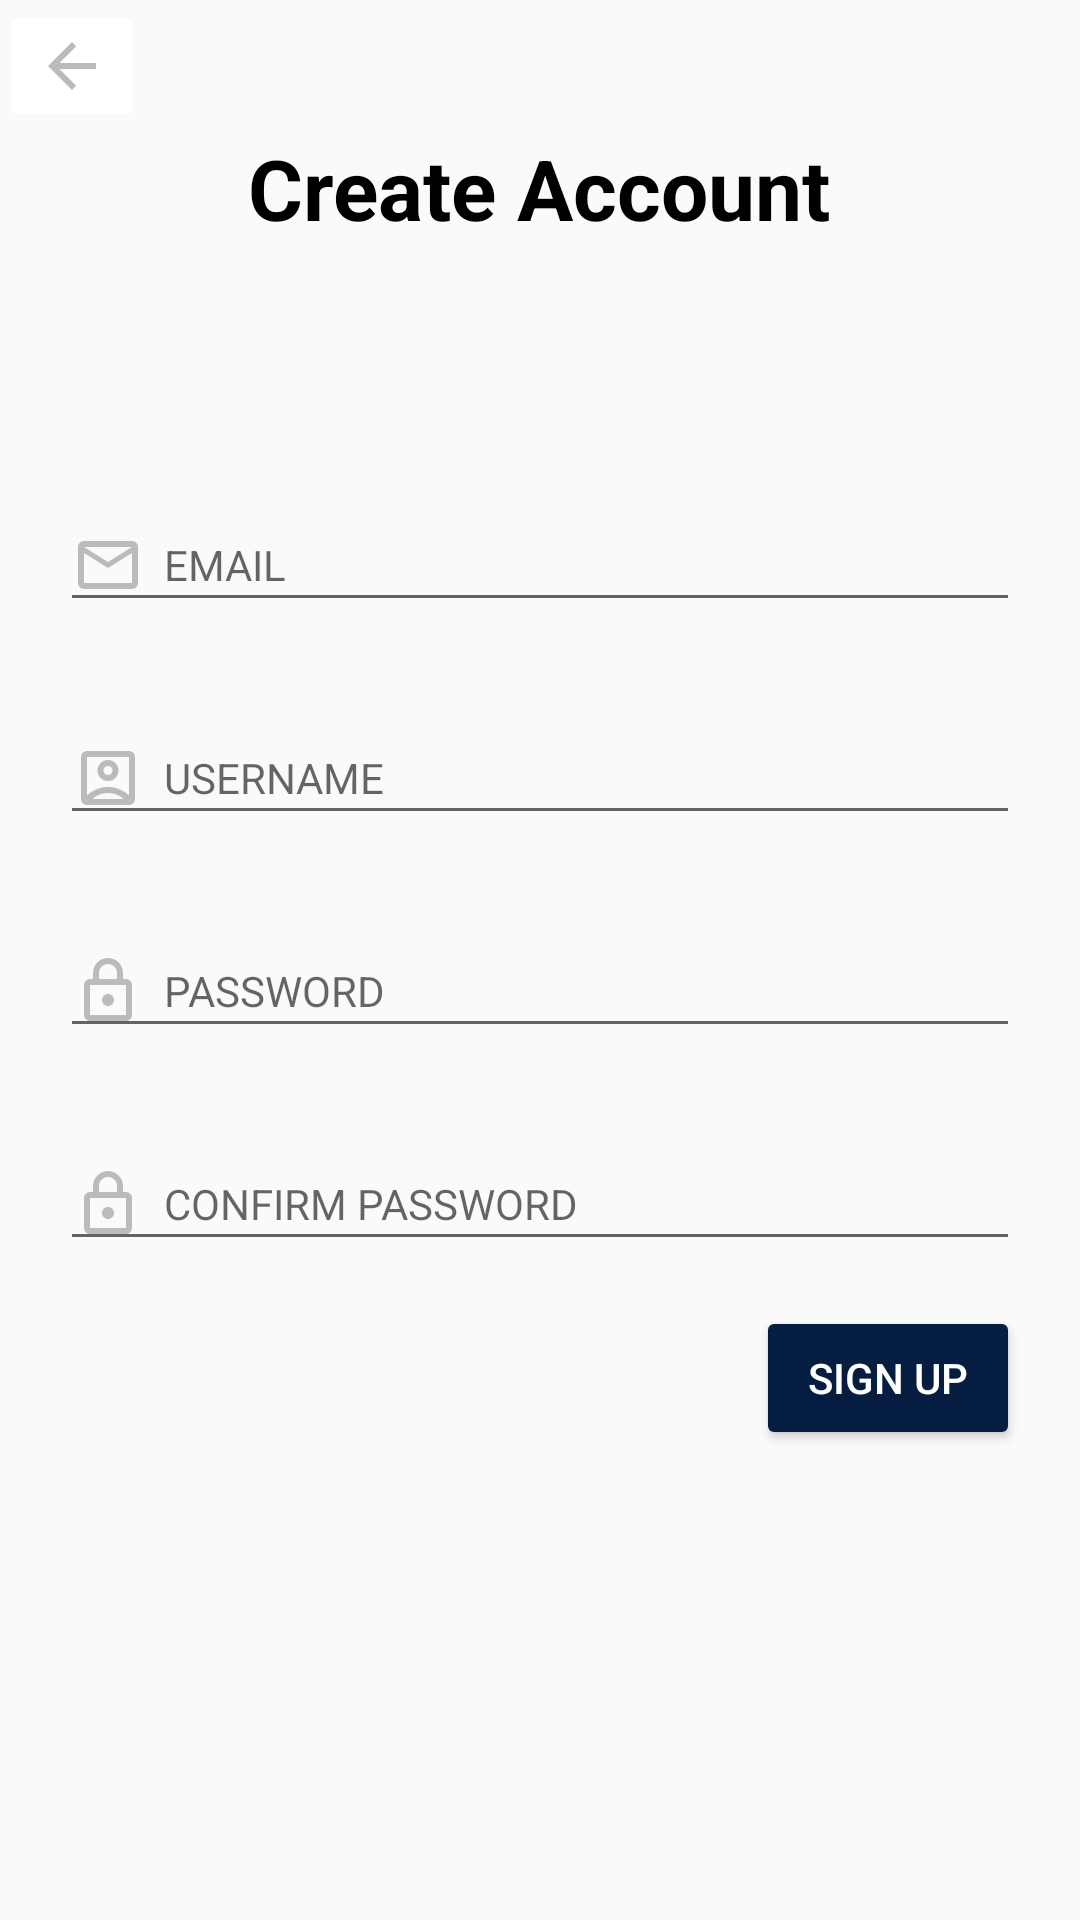

Icons on this 1080 × 1920 Android screen, each with its box as (x1, y1, x2, y2):
arrow back: (48, 42, 96, 90)
